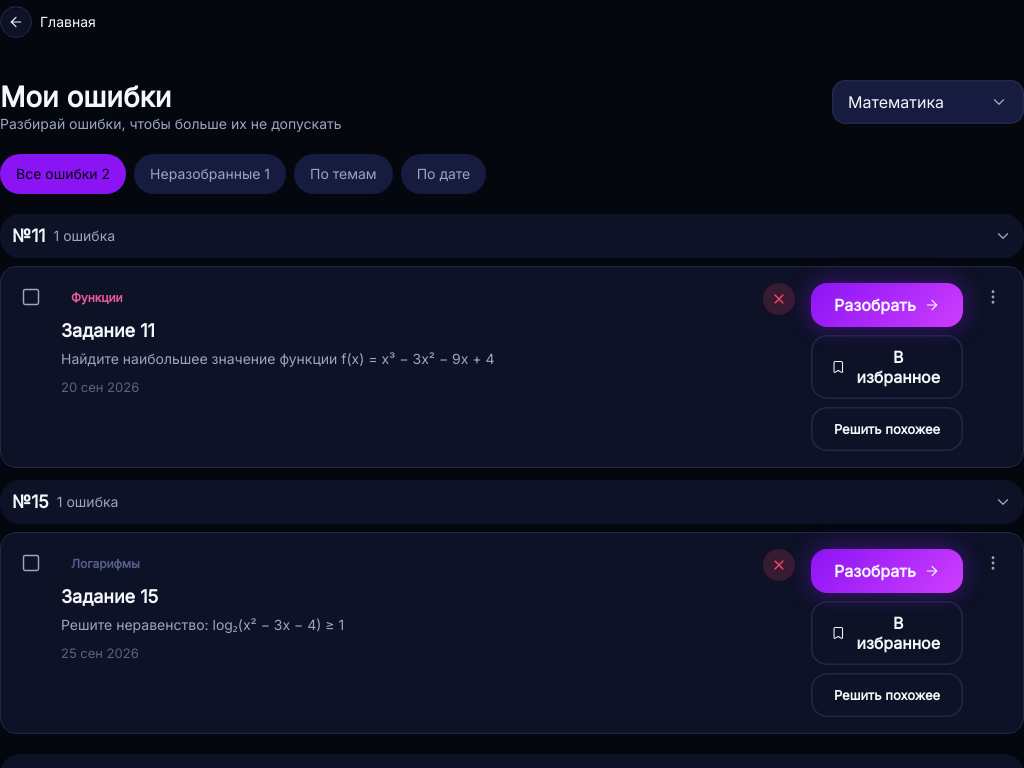
Test: MistakesDesktop — "Решить похожее" (deterministic similarity engine, same taskNumber only) › never opens a task and shows an honest empty-state toast when there are no same-number candidates
Expected: the text "Решите неравенство: log₂(x² − 3x − 4) ≥ 1" is shown, [61,616,344,633]
Click the 1st button "Решить похожее" at point(887, 429), box [811,407,963,451]
(page scrolled)
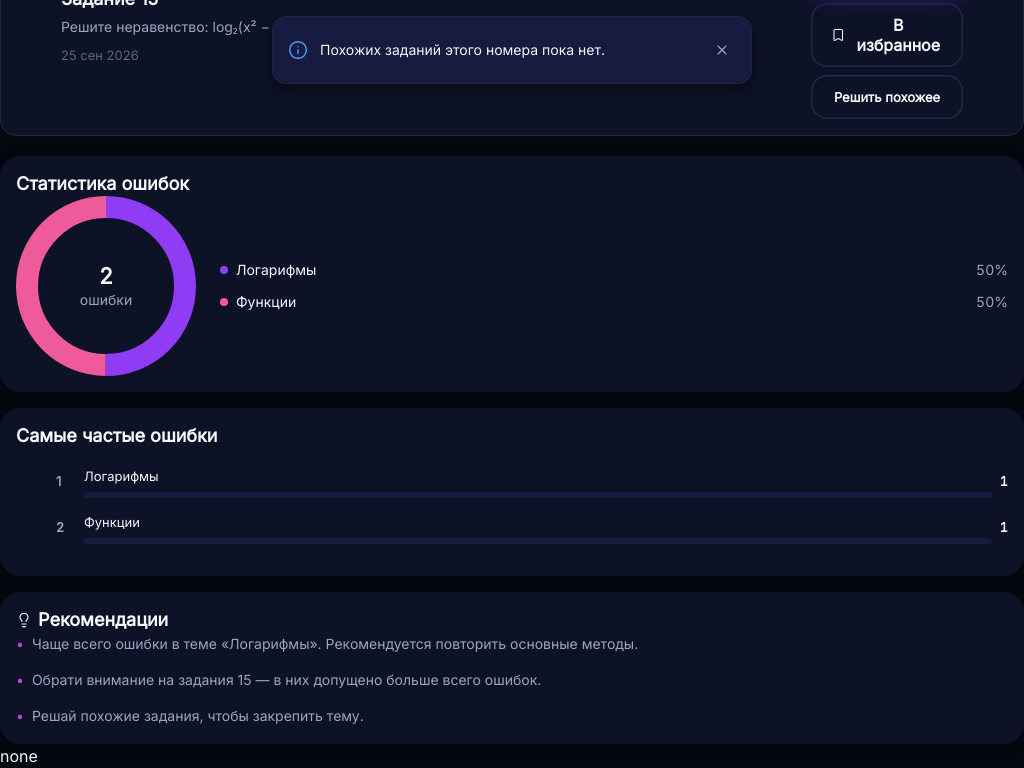
Expected: the text with test id "overlay" reads "none", [0,746,38,766]
Expected: the text "Похожих заданий этого номера пока нет." is shown, [320,41,605,58]
